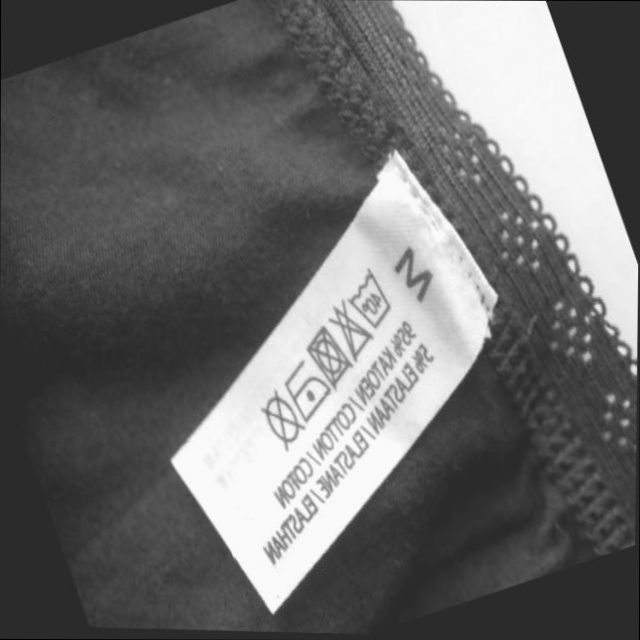40C: (350, 267, 391, 326)
DN_bleach: (330, 298, 371, 360)
DN_dry_clean: (257, 393, 304, 452)
DN_tumble_dry: (306, 321, 351, 387)
iron_low: (283, 361, 329, 419)
